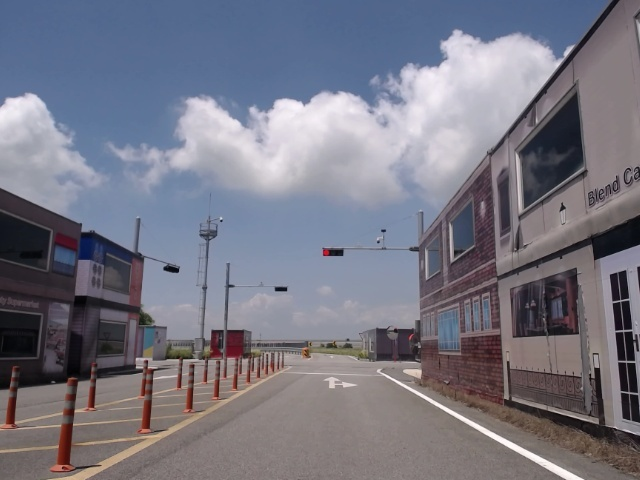red_3: (323, 249, 343, 255)
